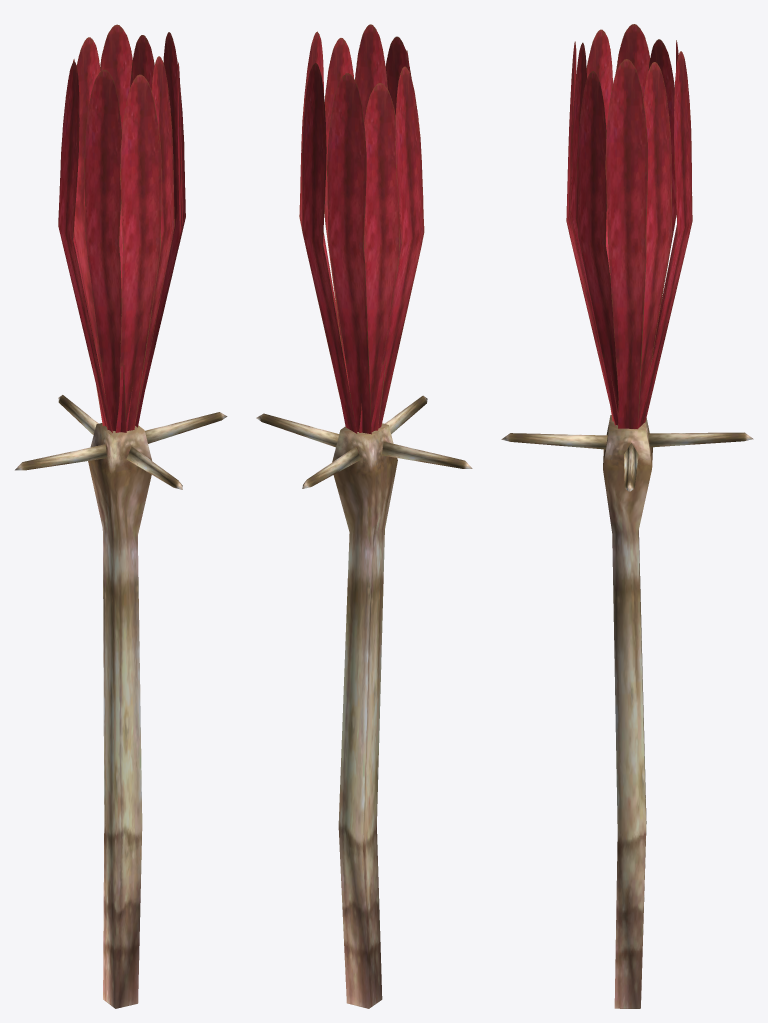
The model's file is flow_tatt_funnel_sm_l1.fbx.
3 renders of one model, left to right at view 1: azimuth 30°, elevation 25°; view 2: azimuth 150°, elevation 25°; view 3: azimuth 270°, elevation 25°, orthographic.
Visible parts, largest first — view 1: mesh_node; view 2: mesh_node; view 3: mesh_node.
Part boxes in pixels (x1=…): mesh_node: x1=15, y1=24, x2=227, y2=1008; mesh_node: x1=256, y1=24, x2=472, y2=1008; mesh_node: x1=501, y1=24, x2=753, y2=1008.
Bounding box in the file's own units: 0.223 × 0.9587 × 0.2244.
